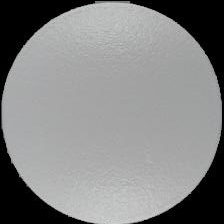21695-141: (0, 0, 224, 224)
